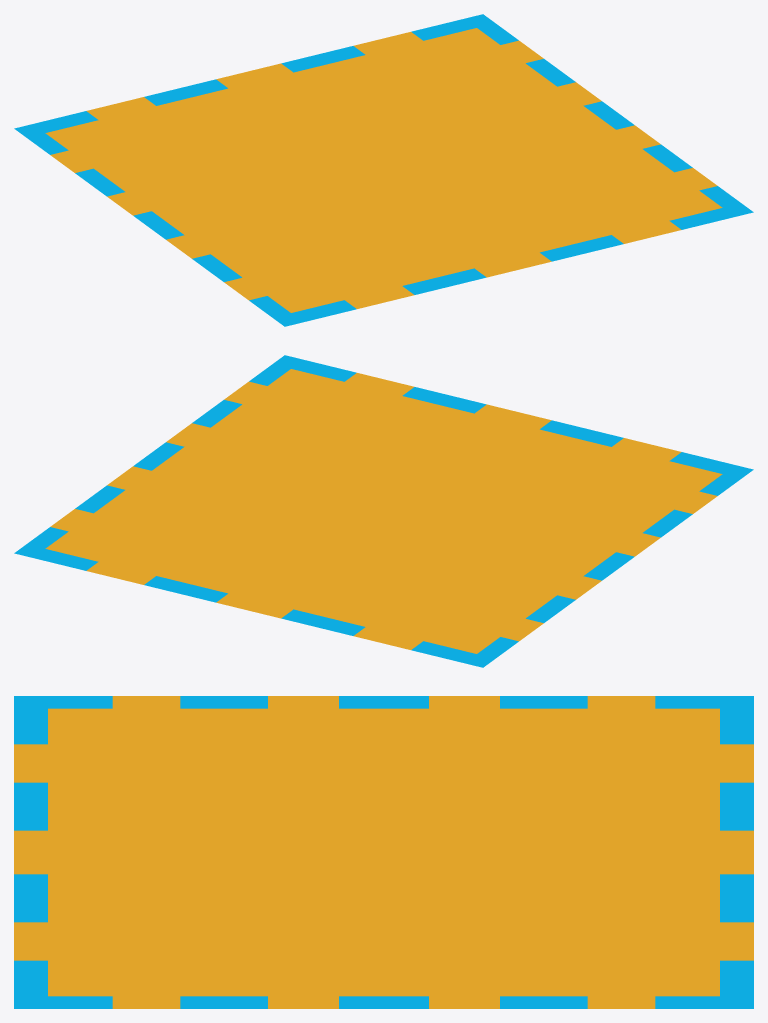
Rendered from ground_track03.FBX.
3 renders of one model, top to bottom at view 1: azimuth 30°, elevation 25°; view 2: azimuth 150°, elevation 25°; view 3: azimuth 270°, elevation 25°, orthographic. The views are drawn at different scales.
Parts seen in each view (by area): view 1: ground_track03; view 2: ground_track03; view 3: ground_track03.
Boxes of the visible parts, x1=… form: ground_track03: x1=14, y1=14, x2=753, y2=326; ground_track03: x1=14, y1=355, x2=753, y2=667; ground_track03: x1=14, y1=696, x2=753, y2=1008.
Bounding box in the file's own units: 6 × 6.2e-07 × 6.
1 material, 1 textured.
